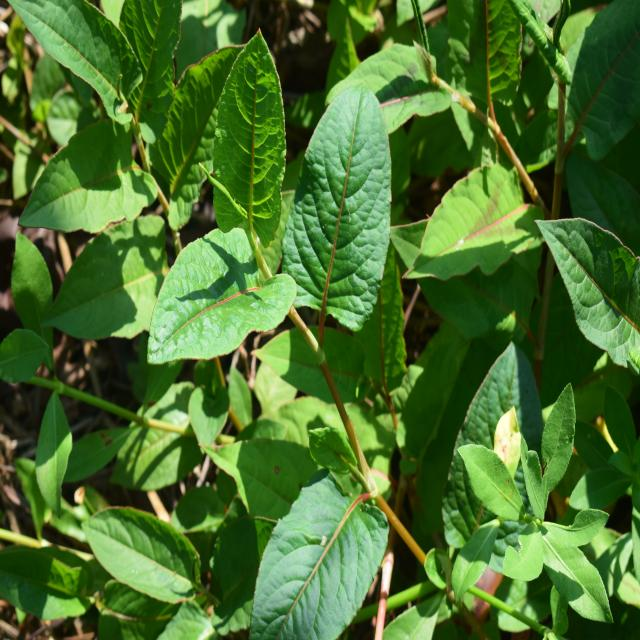Chinese_knotweed: (146, 34, 398, 378)
